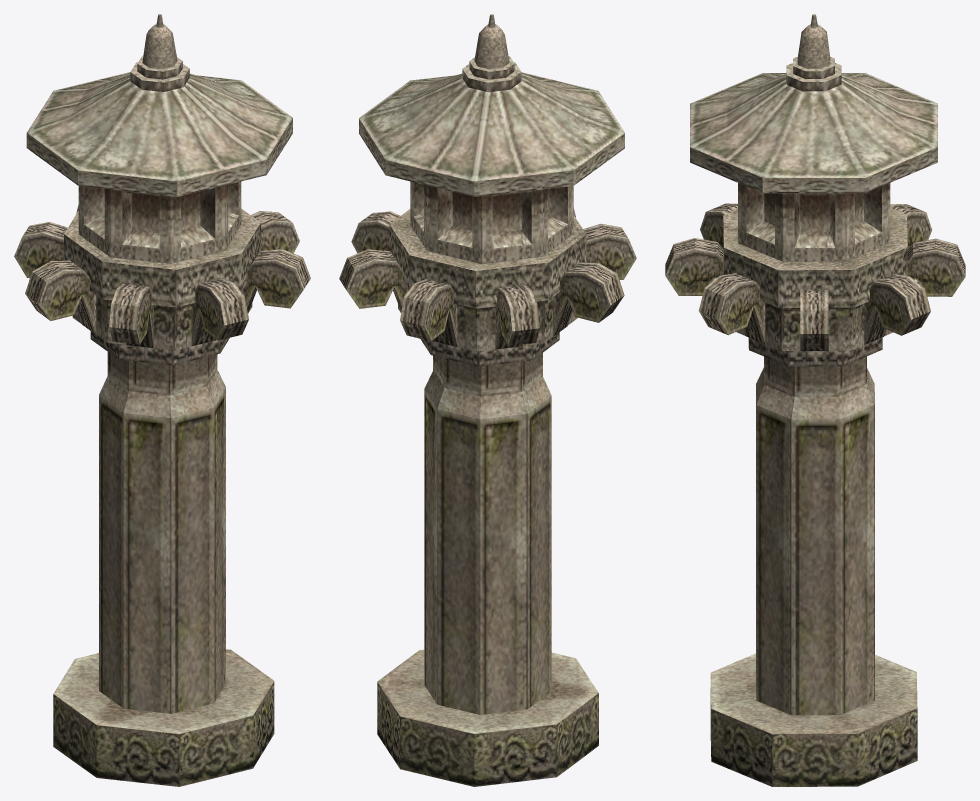
File: b1_018-stonelight-1.fbx
3 renders of one model, left to right at view 1: azimuth 30°, elevation 25°; view 2: azimuth 150°, elevation 25°; view 3: azimuth 270°, elevation 25°, orthographic.
Parts seen in each view (by area): view 1: b1-018-stonelight-01; view 2: b1-018-stonelight-01; view 3: b1-018-stonelight-01.
Boxes of the visible parts, <box> form: b1-018-stonelight-01: <box>14,14,310,786</box>; b1-018-stonelight-01: <box>339,14,636,786</box>; b1-018-stonelight-01: <box>665,14,965,786</box>.
Size of the model in its own units: 1.87 by 4.99 by 1.87.
